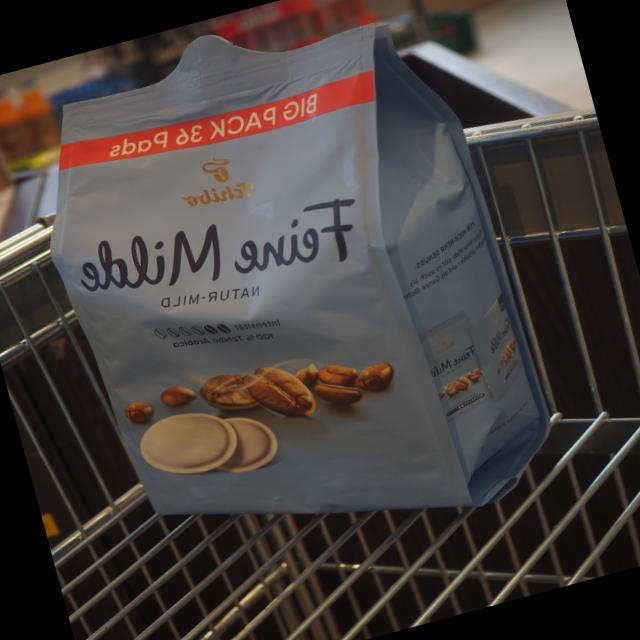FM 36 Pads: (0, 0, 577, 608)
